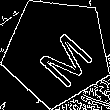M_NW: (23, 18, 91, 85)
